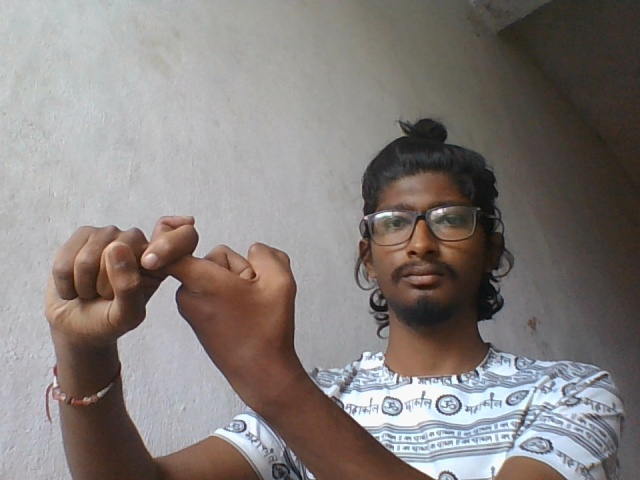ILoveYou: (40, 208, 308, 375)
